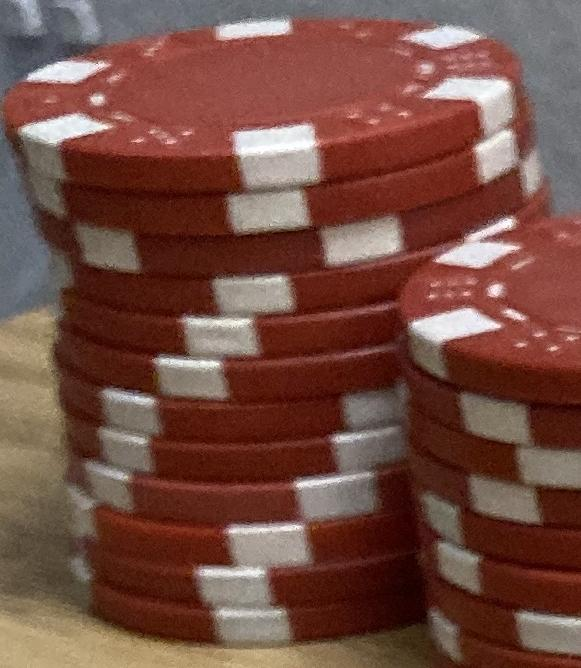Chip: (1, 1, 581, 668)
